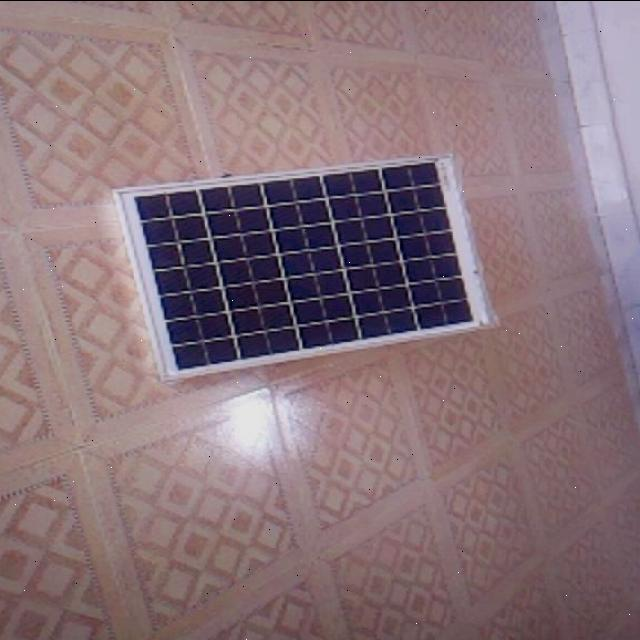Normal Solar Panel: (116, 152, 493, 378)
